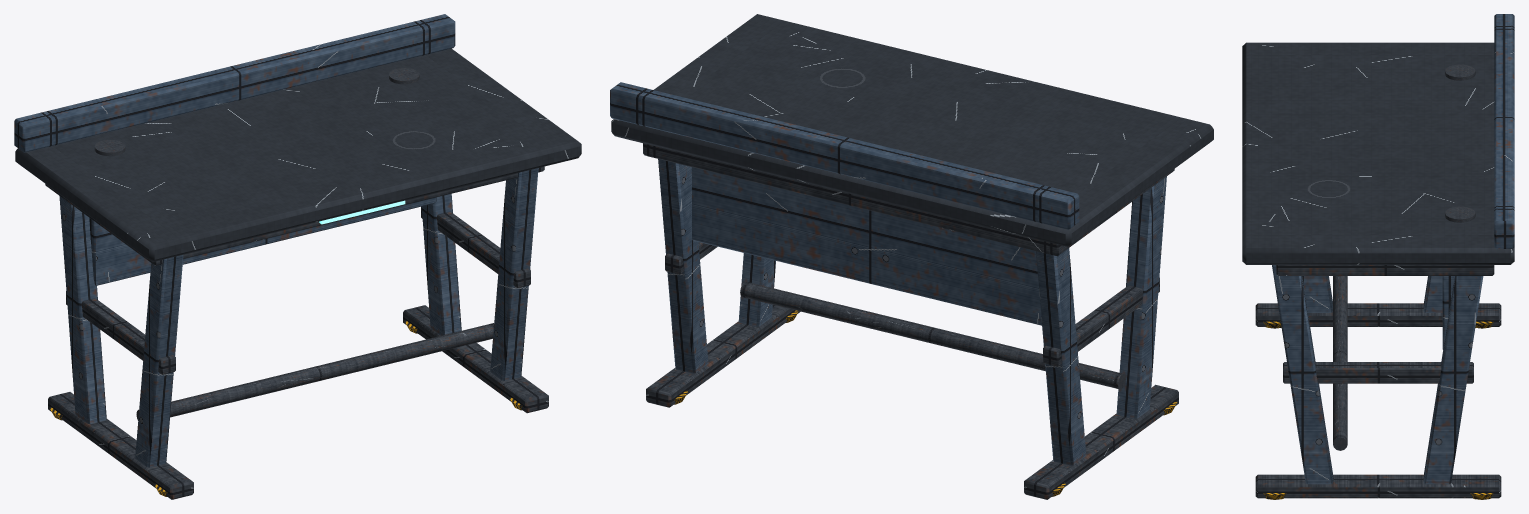
File: garage_workbench_metal.glb
3 renders of one model, left to right at view 1: azimuth 30°, elevation 25°; view 2: azimuth 150°, elevation 25°; view 3: azimuth 270°, elevation 25°, orthographic. The views are drawn at different scales.
Visible parts, largest first — view 1: mesa_trabajo; view 2: mesa_trabajo; view 3: mesa_trabajo.
Boxes of the visible parts, <box> form: mesa_trabajo: <box>14,14,581,499</box>; mesa_trabajo: <box>610,14,1213,499</box>; mesa_trabajo: <box>1242,14,1514,499</box>.
Bounding box in the file's own units: 1.45 × 0.94 × 0.8.
Materials: 5 (4 with a texture image).
